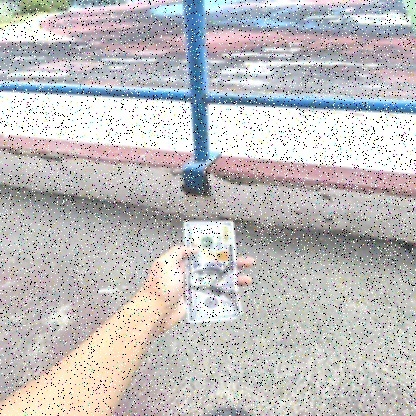one_hundred-front: (171, 210, 244, 325)
